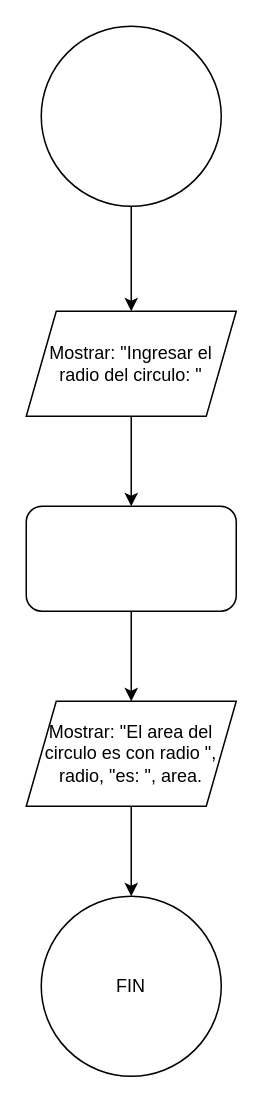
This 263x1103 diagram has some shape labels left out. The shapes that lost their labels are listed below. From the top down, each one's centre as x and y in pixels, then its label:
the point at 130,115: Inicio
the point at 130,558: Definir una nueva variable area y asignarle el resultado de pi * radio^2
